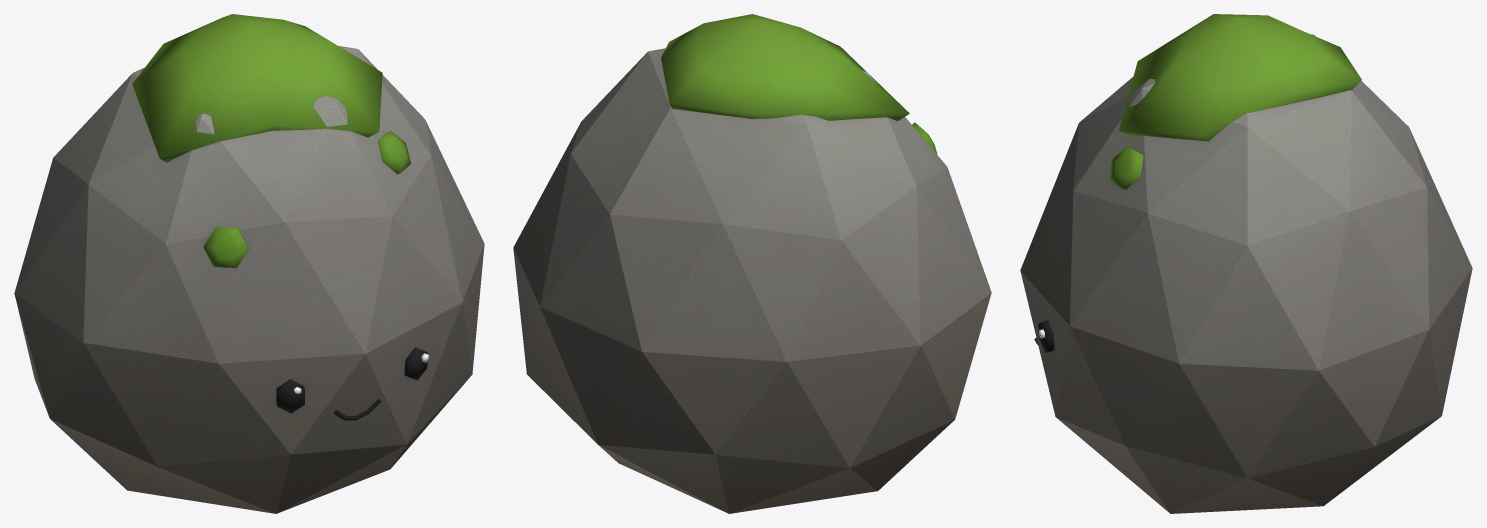
File: rock_grey_2_low.glb
3 views of the same model, side by side, from view 1: azimuth 30°, elevation 25°; view 2: azimuth 150°, elevation 25°; view 3: azimuth 270°, elevation 25° (orthographic).
Visible parts, largest first — view 1: rock_grey_2; view 2: rock_grey_2; view 3: rock_grey_2.
Part boxes in pixels (x1,y1,x2,y2): rock_grey_2: (14, 14, 484, 513); rock_grey_2: (513, 14, 991, 513); rock_grey_2: (1020, 14, 1472, 513).
Bounding box in the file's own units: 0.5662 × 0.6239 × 0.5419.
Materials: 1 (1 with a texture image).
